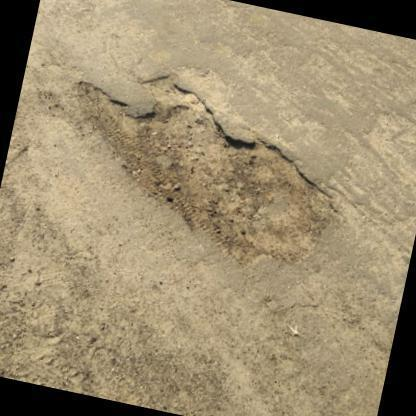pothole: (72, 69, 340, 265)
